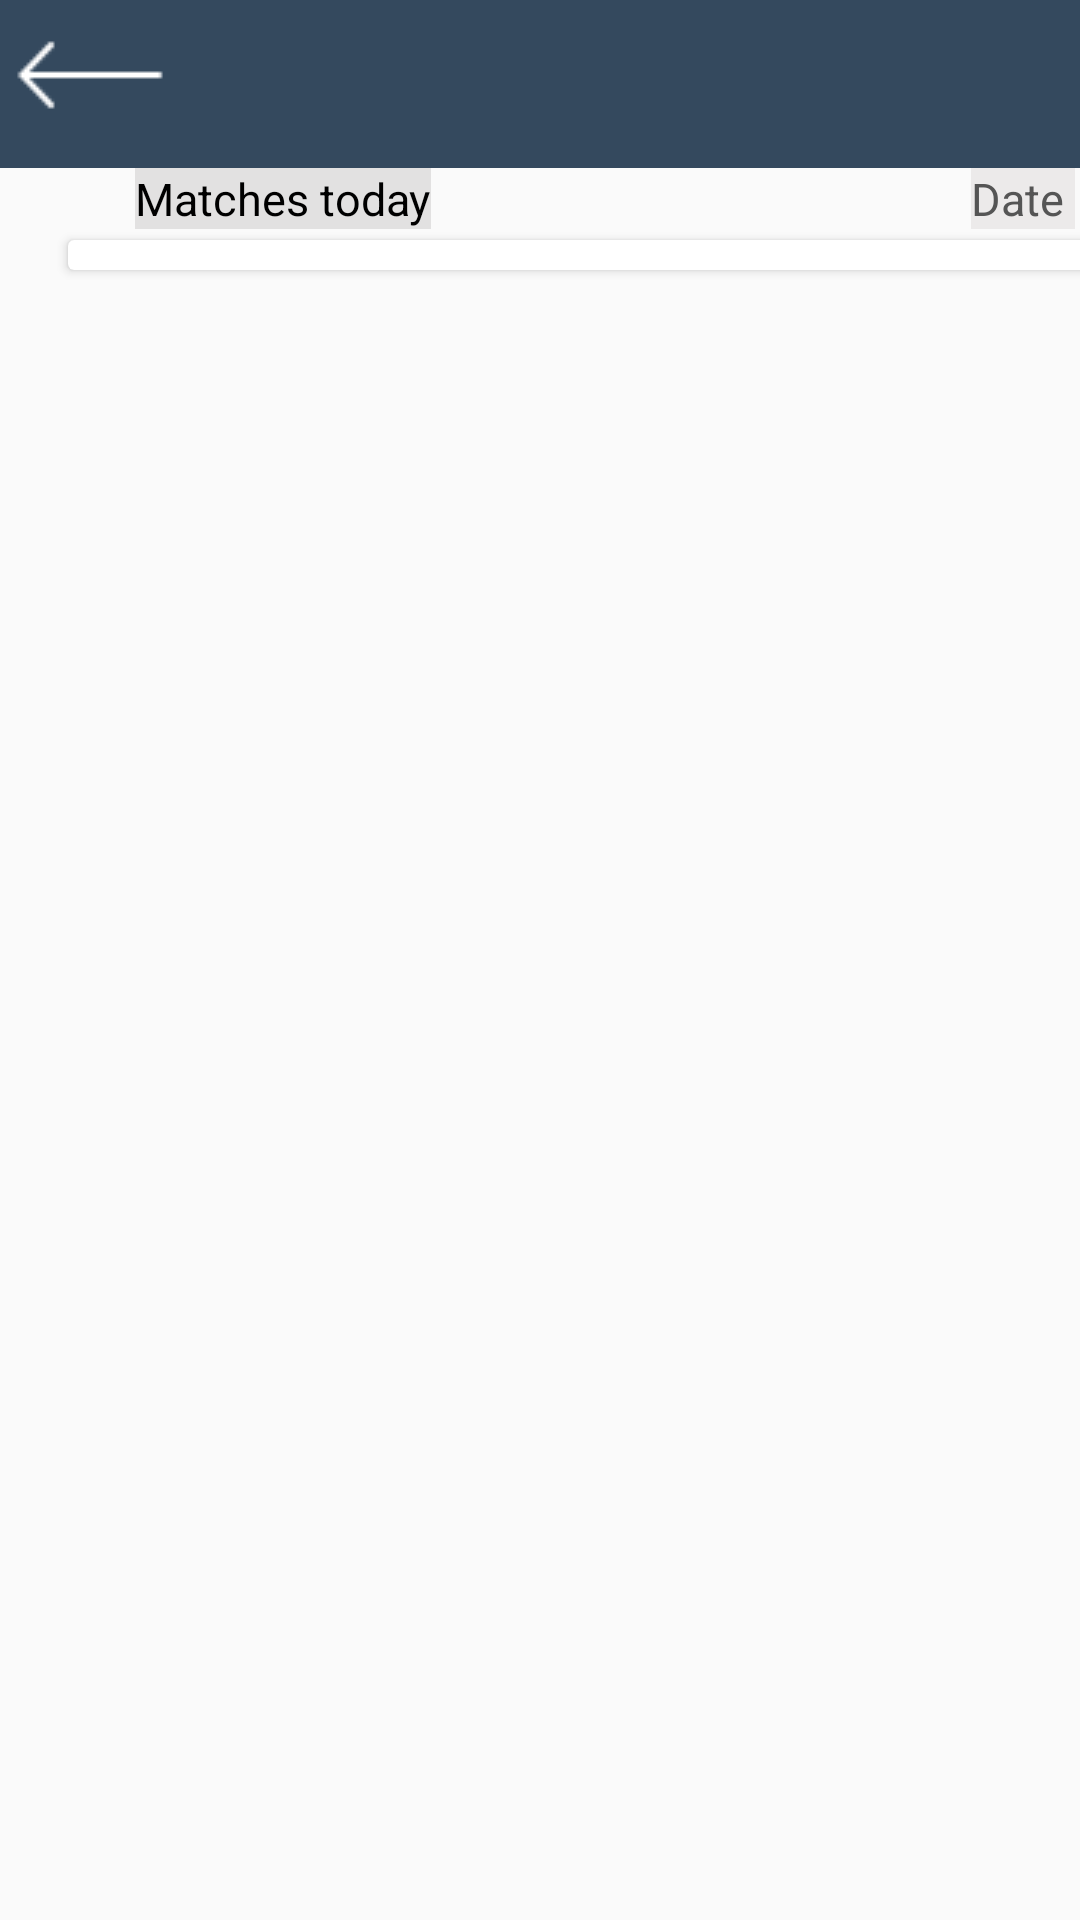

Icon click points for this 1080 × 1920 phone screenshot, format point (x, y):
arrow left: point (90, 75)
